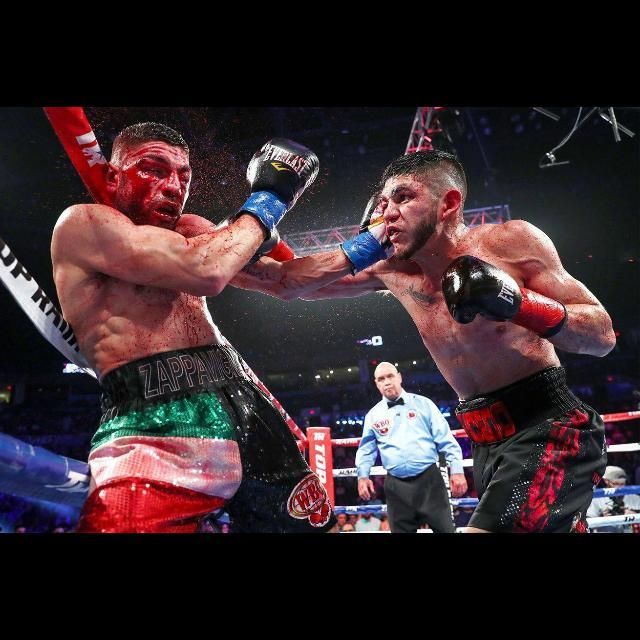blood: (304, 175, 617, 400), (53, 140, 264, 283), (91, 287, 221, 377)
